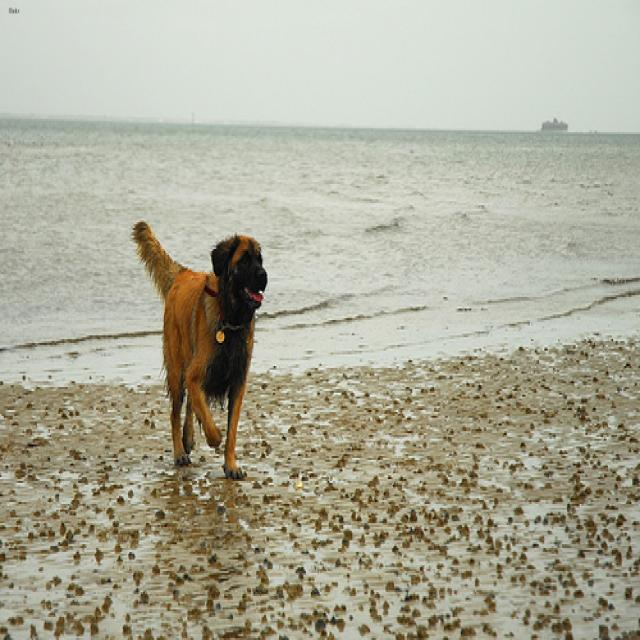dog-leonberger: (125, 213, 271, 485)
